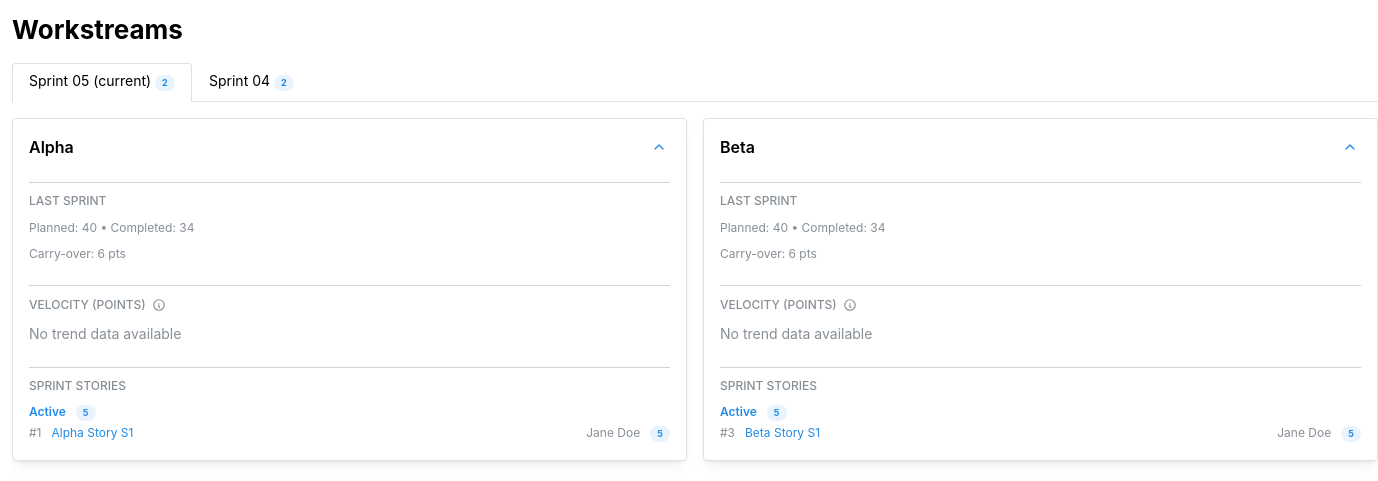
Test: WorkstreamCardsGrid › shared sprint selector › tab change updates all cards
Expected: the text "Alpha Story S1" is shown, [52, 425, 133, 442]
Expected: the text "Beta Story S1" is shown, [745, 425, 820, 442]
Click the tab "Sprint 04 2" at (252, 83), box [192, 63, 311, 102]
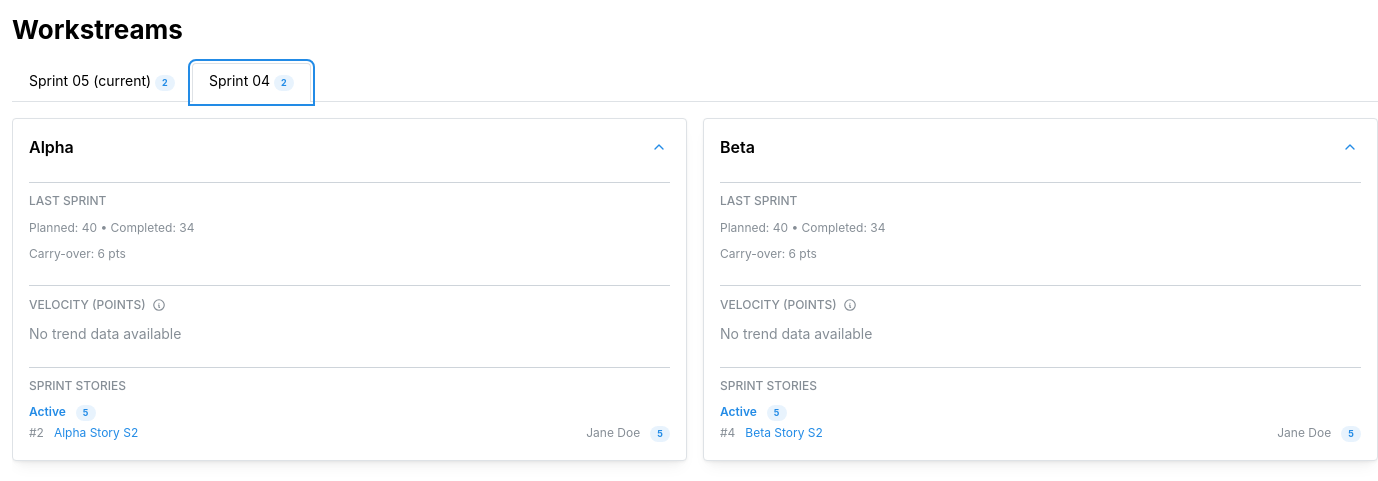
Expected: the text "Alpha Story S2" is shown, [54, 425, 138, 442]
Expected: the text "Beta Story S2" is shown, [745, 425, 823, 442]
